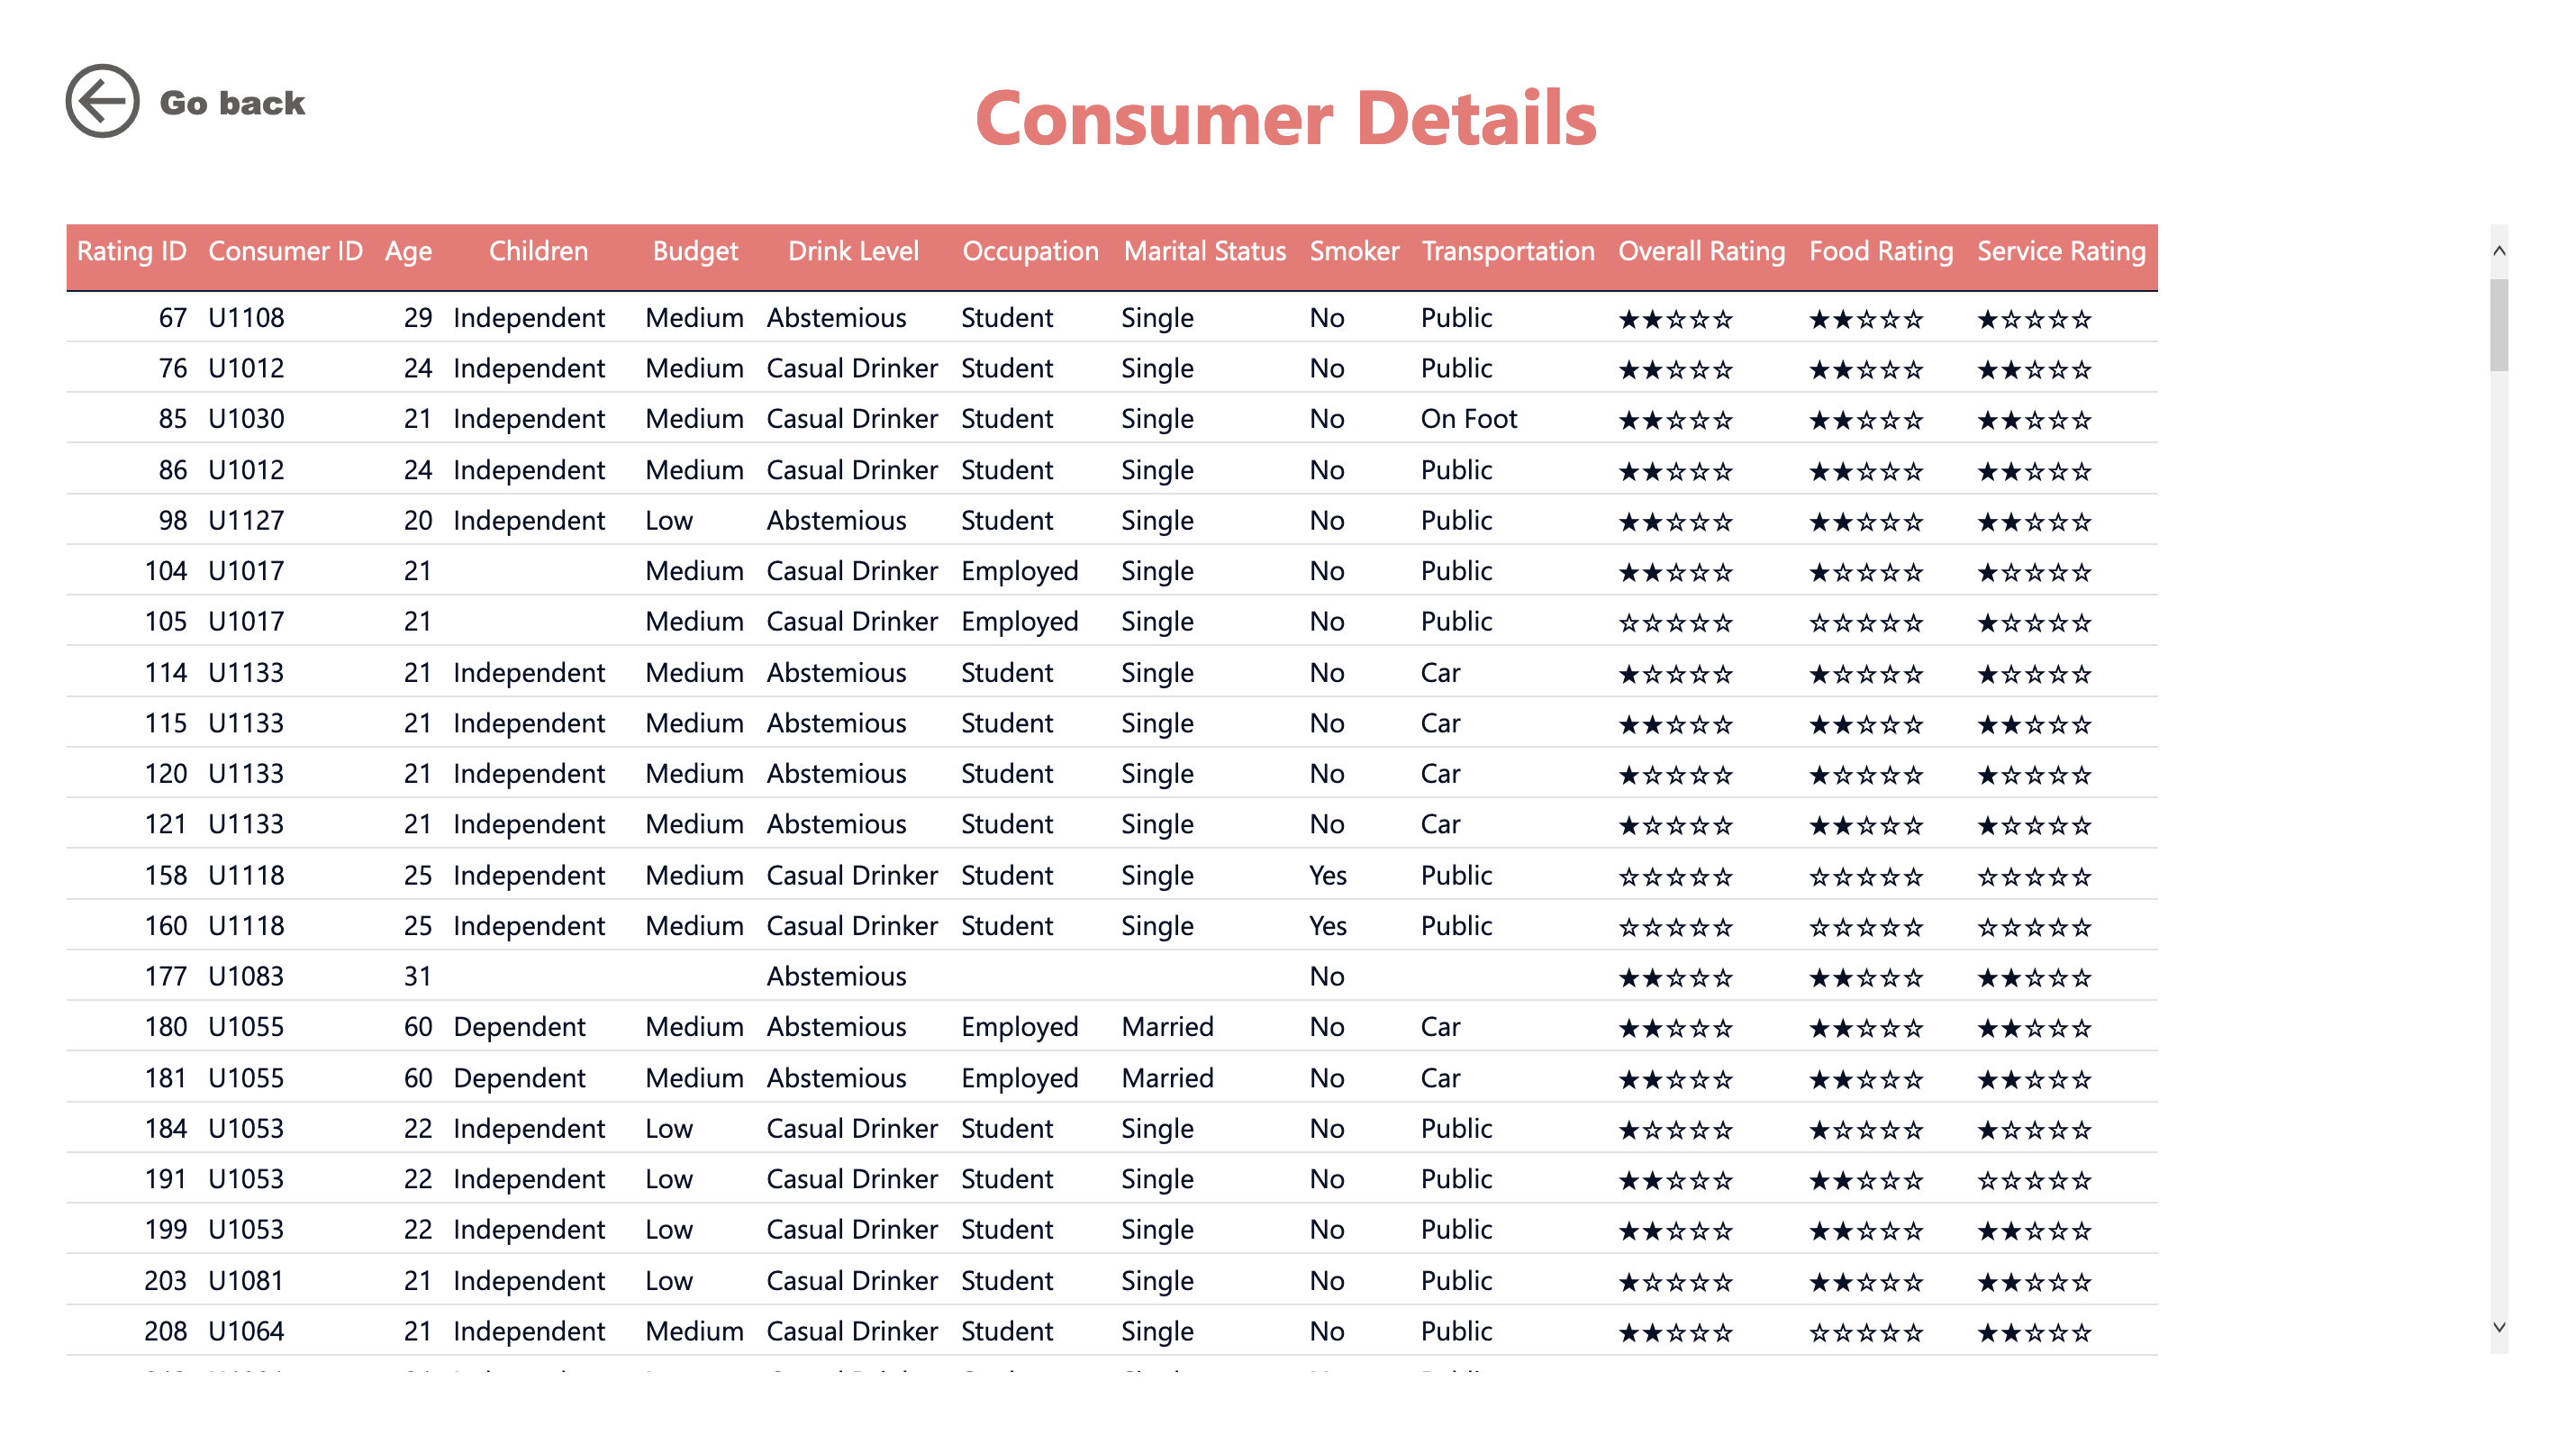

The dashboard page shown, as its layout file describes it:
{"tool":"powerbi","page":{"name":"Consumer Details","canvas":[1280,720],"ordinal":1},"visuals":[{"type":"tableEx","fields":{"Values":["ratings.Rating ID","ratings.Consumer_ID","consumers.Age","consumers.Children","consumers.Budget","consumers.Drink_Level","consumers.Occupation","consumers.Marital_Status","consumers.Smoker","consumers.Transportation Method","_Measures.Stars - Overall Rating","_Measures.Stars - Food Rating"]},"box":[32,112,1216,576],"z":0},{"type":"actionButton","box":[32,32,128,48],"z":1000},{"type":"textbox","box":[288,32,704,80],"z":2000}]}

Visuals, with their boxes in screenshot pixels (x1, y1, x2, y2), scaled from the page's 1280x720 canvas onto the 2576x1454 screenshot:
tableEx - ratings.Rating ID x ratings.Consumer_ID: bbox=(65, 226, 2511, 1389)
actionButton: bbox=(65, 65, 322, 161)
textbox: bbox=(580, 65, 1996, 226)
